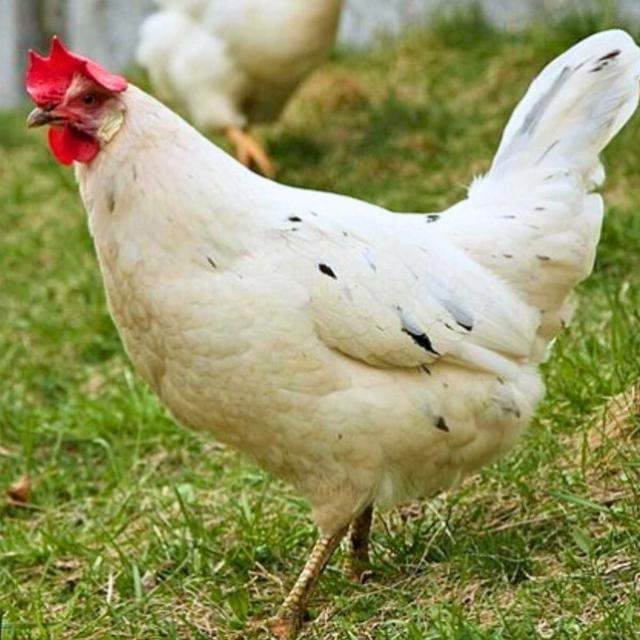Chicken: (21, 27, 640, 640)
